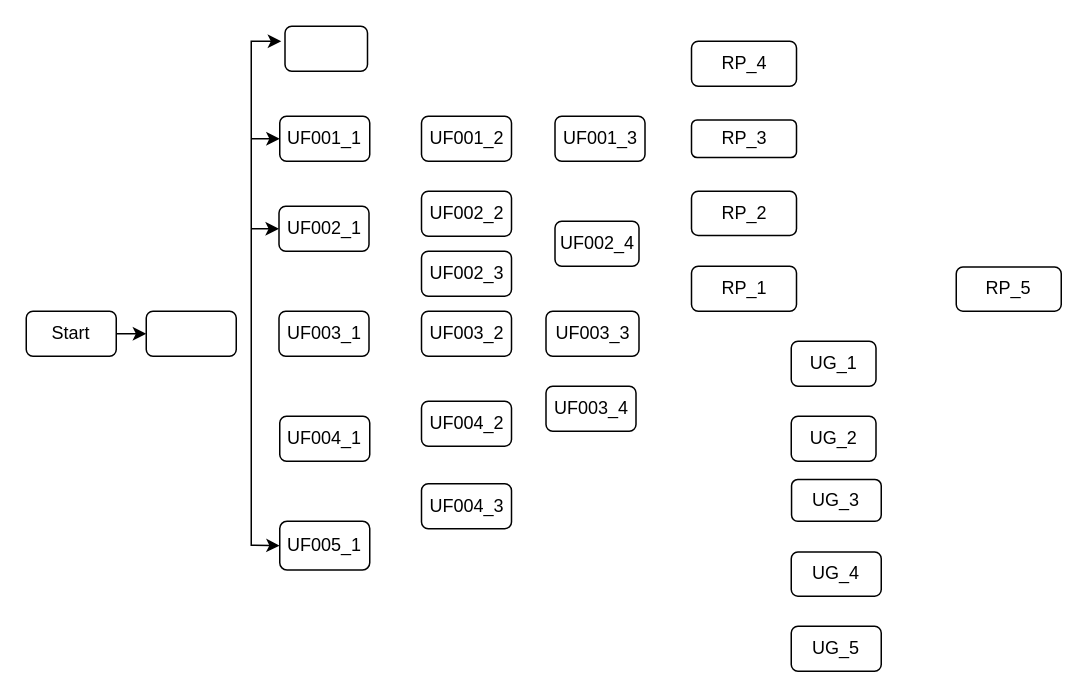
This 1088x698 diagram has some shape labels left out. The centre of each missing label's shape, as x and y in pixels:
AD_1: point (190, 333)
S_1: point (326, 48)
